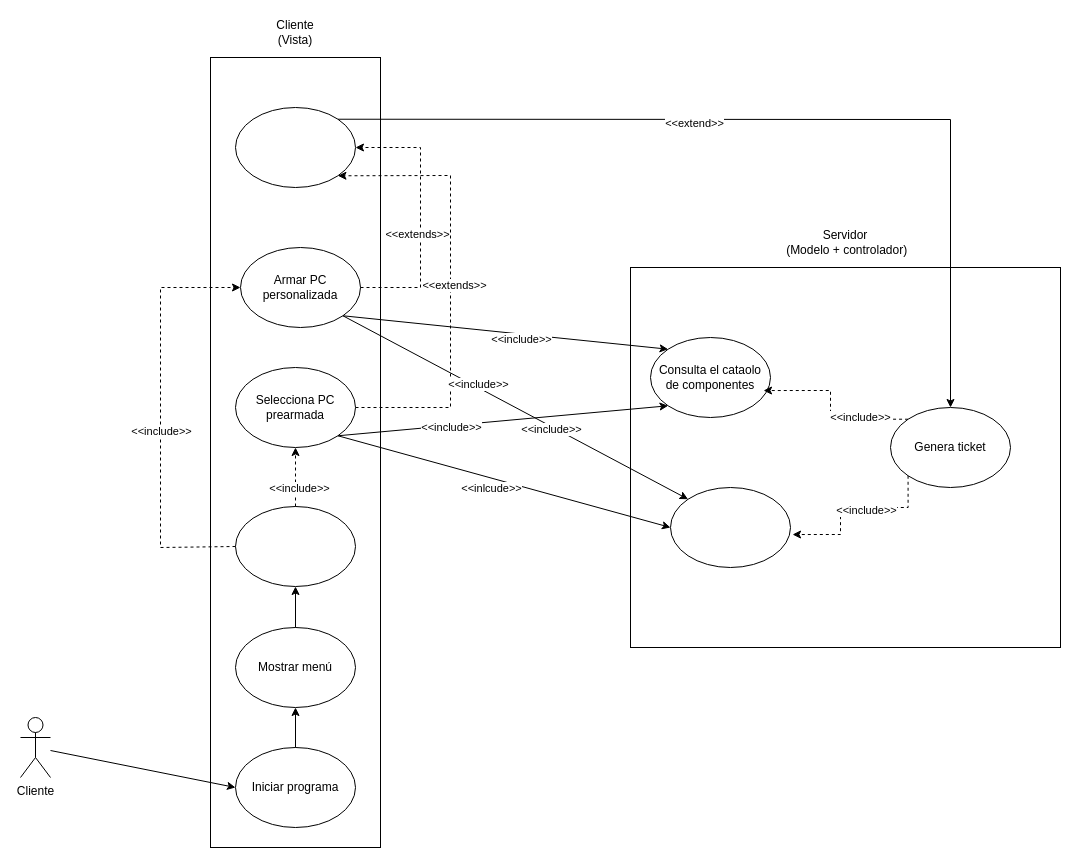
Some shapes in this 1078 by 865 pixel diagram are drawn without their labels. Here are the shapes that lost their labels. From the top down, the centre of each, then its label:
(295,147): Agregar software adicional
(295,546): Selecciona el tipo de compra
(730,527): Verifica compatibilidad
